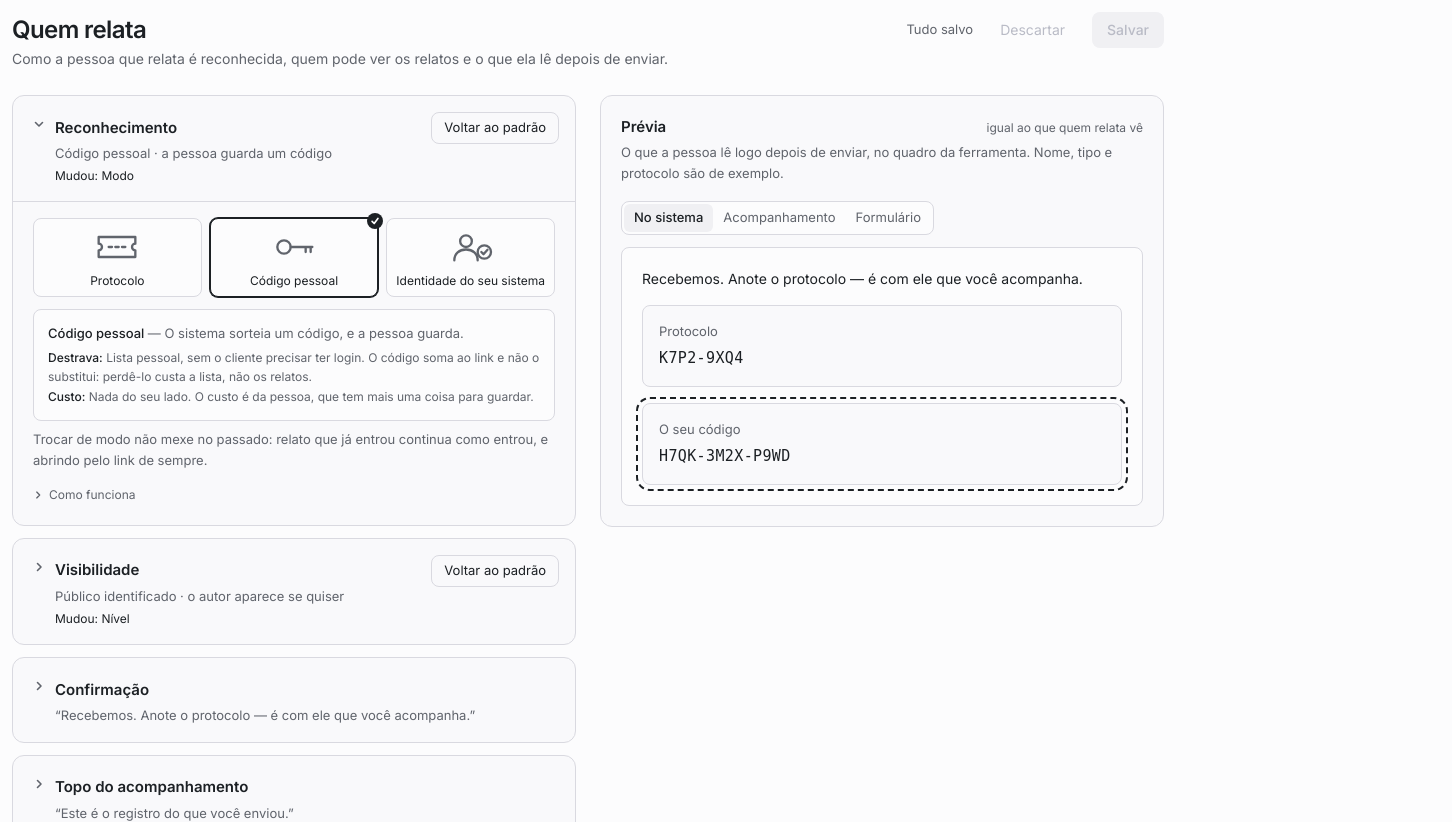
it: IdentityScreen › voltar ao protocolo não troca a visibilidade sozinho: avisa no grupo e tranca o salvar
Click the radio button labelled "Protocolo": (117, 258) [34,219,201,296]
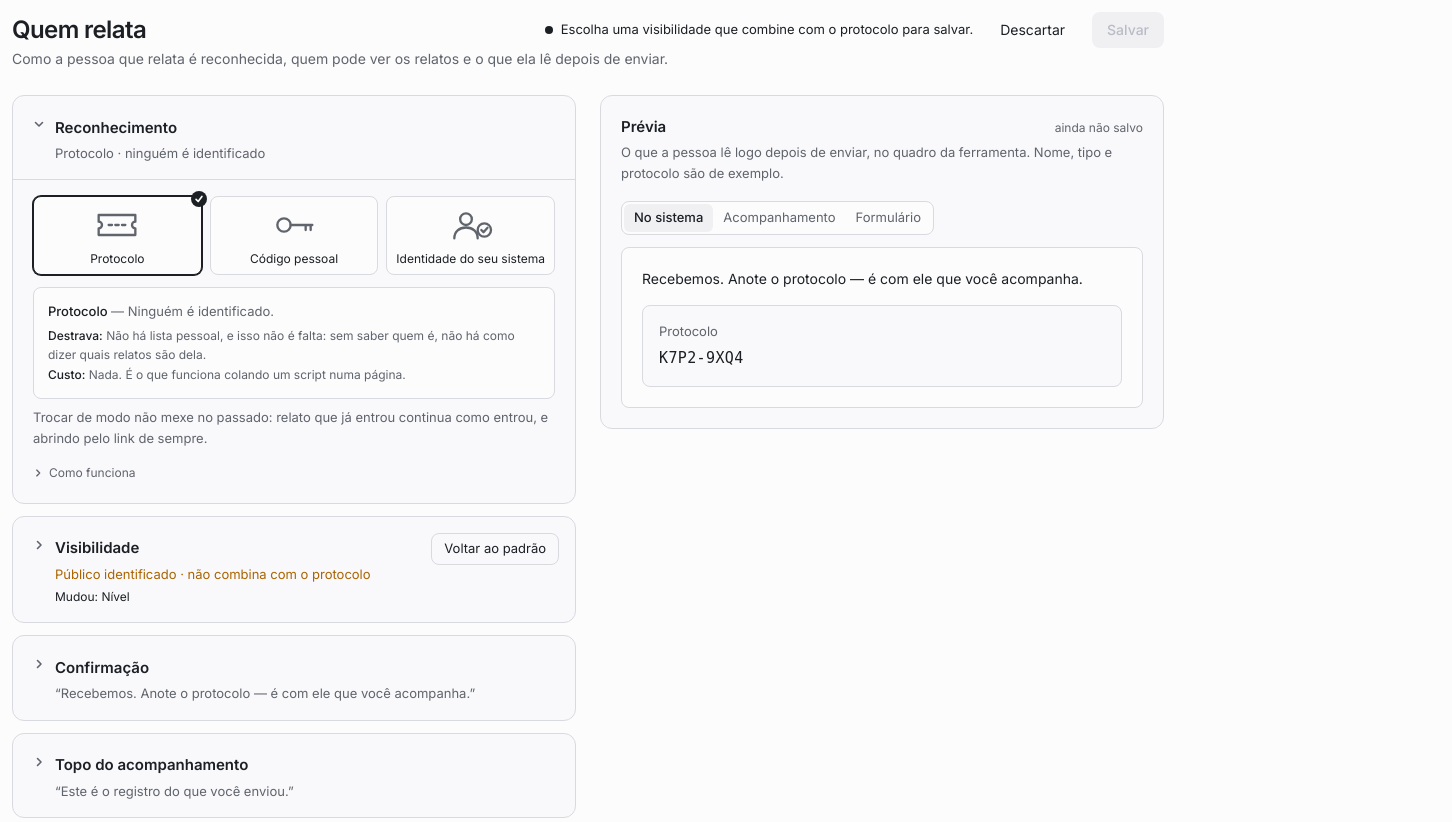
Expected: the button "Salvar" is disabled, [1092,12,1164,48]
Expected: the text "Escolha uma visibilidade que combine com o protocolo para salvar." is shown, [561,20,973,40]
